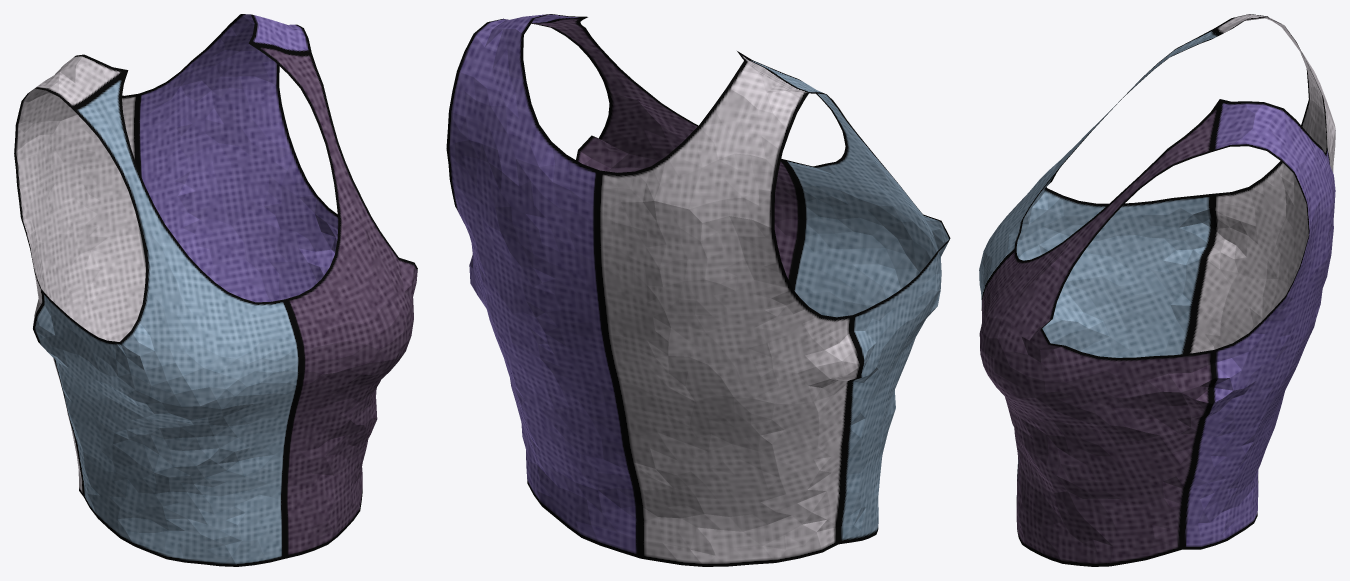
The model's file is tank_knit4_d25_sim.obj.
The picture shows the model from 3 angles, left to right: view 1: azimuth 30°, elevation 25°; view 2: azimuth 150°, elevation 25°; view 3: azimuth 270°, elevation 25°; orthographic projection. The views are drawn at different scales.
Size of the model in its own units: 22.03 by 29.2 by 20.36.
1 material, 1 textured.
